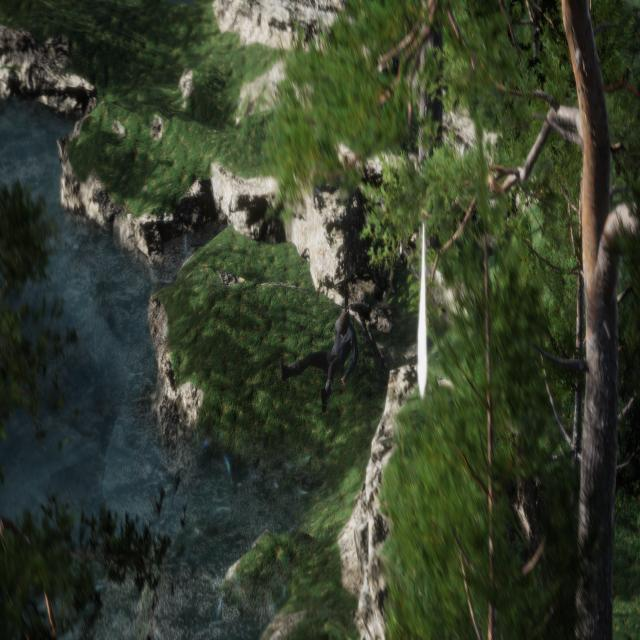Human: (274, 300, 363, 416)
